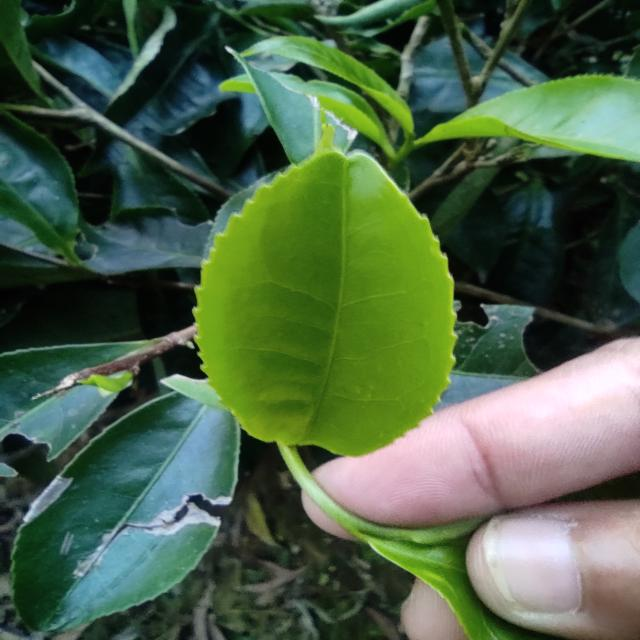Category C 4-7 days: (114, 106, 513, 498)
